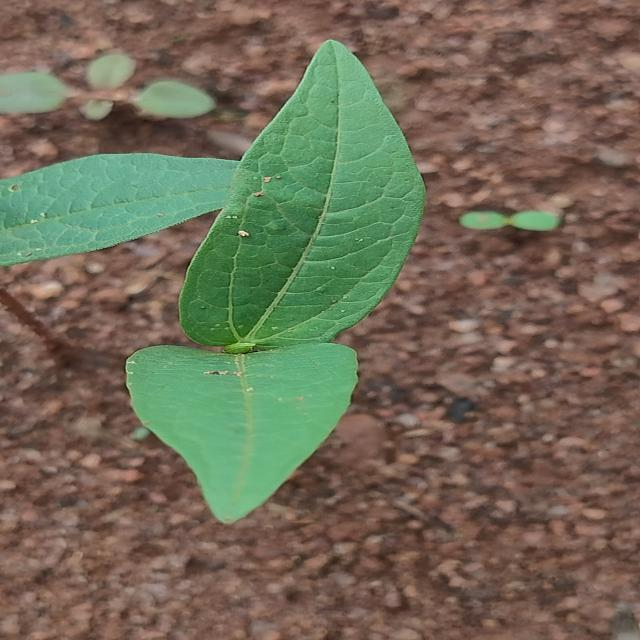Black gram_healthy: (168, 35, 420, 348), (125, 343, 363, 525)
